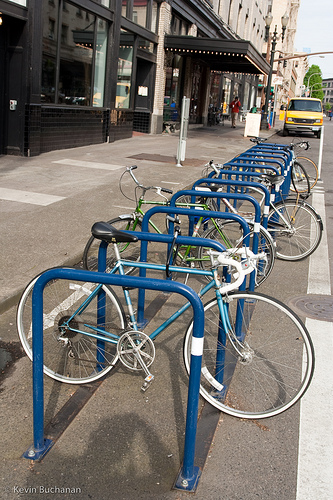bike: (11, 209, 326, 437)
